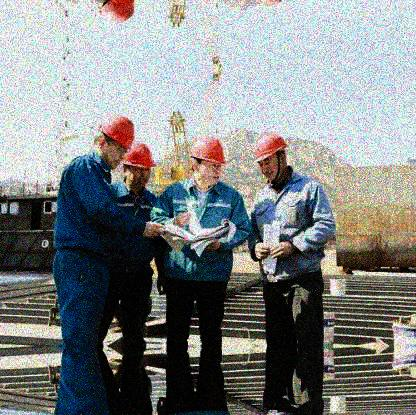helmet: (95, 113, 137, 173), (188, 135, 226, 187), (252, 133, 288, 184), (124, 144, 155, 188)
